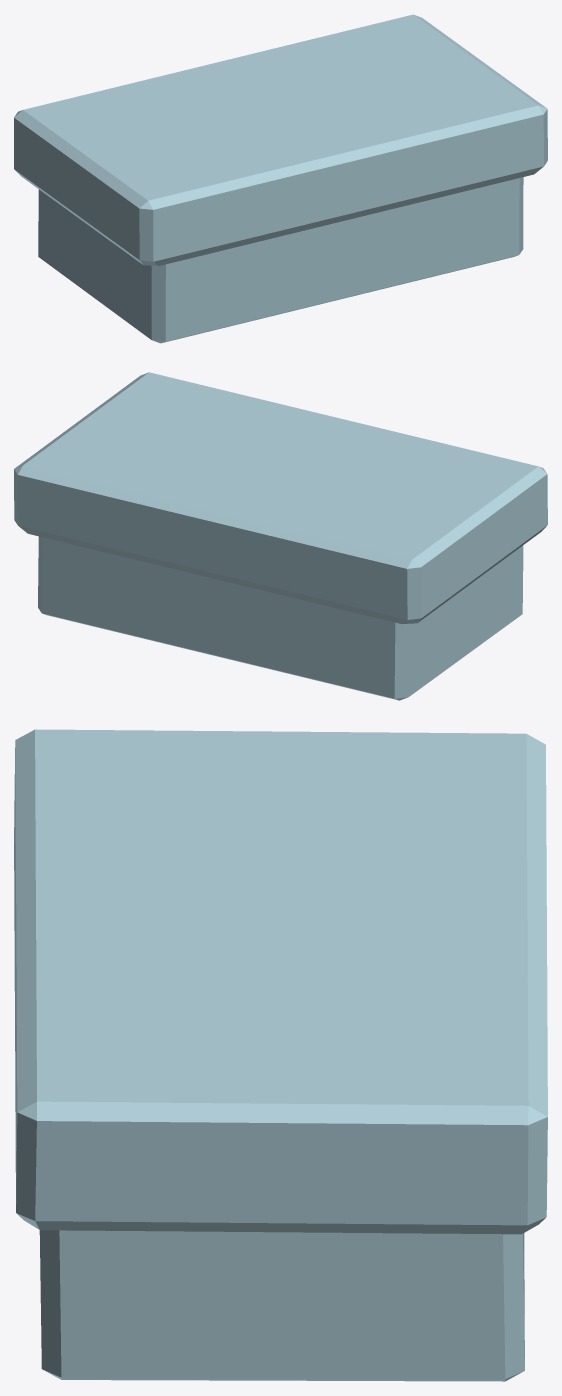
File: Ottoman_1.fbx
The picture shows the model from 3 angles, top to bottom: view 1: azimuth 30°, elevation 25°; view 2: azimuth 150°, elevation 25°; view 3: azimuth 270°, elevation 25°; orthographic projection. The views are drawn at different scales.
Visible parts, largest first — view 1: Ottoman_1; view 2: Ottoman_1; view 3: Ottoman_1.
Boxes of the visible parts, x1,y1,x2,y2 form: Ottoman_1: (14,14,547,343); Ottoman_1: (14,372,547,700); Ottoman_1: (14,729,547,1381).
Bounding box in the file's own units: 162 × 93.76 × 57.52.
